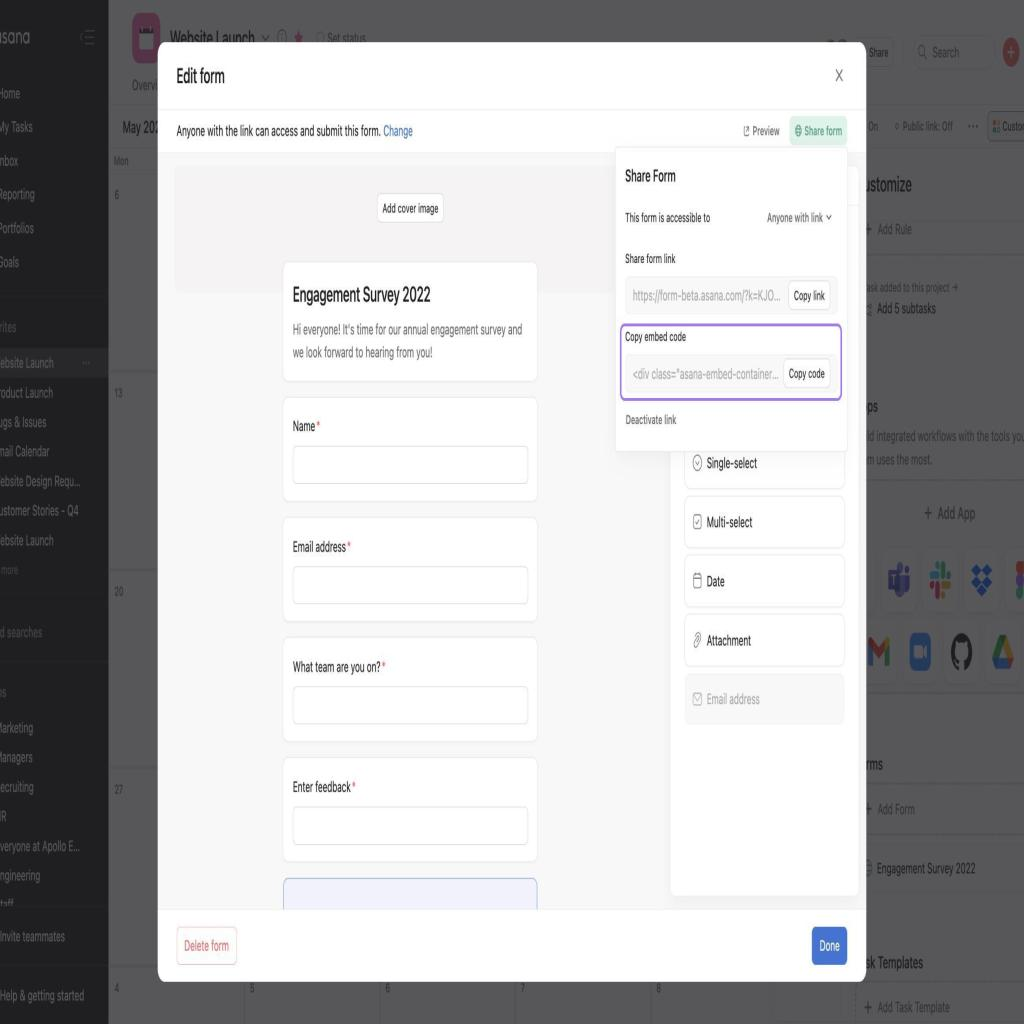button: (866, 783, 1024, 837), (685, 556, 846, 608), (686, 494, 844, 546), (686, 616, 844, 665), (685, 448, 844, 492), (854, 984, 1024, 1024), (684, 676, 843, 718), (178, 927, 238, 963), (380, 193, 442, 225), (812, 924, 847, 966), (792, 118, 845, 145), (788, 280, 831, 312), (988, 108, 1024, 142), (784, 363, 830, 384), (864, 35, 893, 66)
icon: (78, 27, 98, 52), (834, 63, 845, 90), (966, 118, 979, 137)
input: (296, 804, 530, 846), (292, 443, 530, 484), (292, 564, 530, 605), (292, 685, 528, 723), (625, 354, 837, 394), (624, 277, 837, 316), (912, 35, 996, 72)
label: (292, 280, 434, 309), (288, 653, 389, 679), (623, 325, 691, 349), (291, 776, 359, 800), (172, 66, 234, 92), (291, 536, 356, 558), (622, 246, 676, 269), (619, 165, 679, 184), (292, 411, 323, 437), (741, 120, 780, 135)
